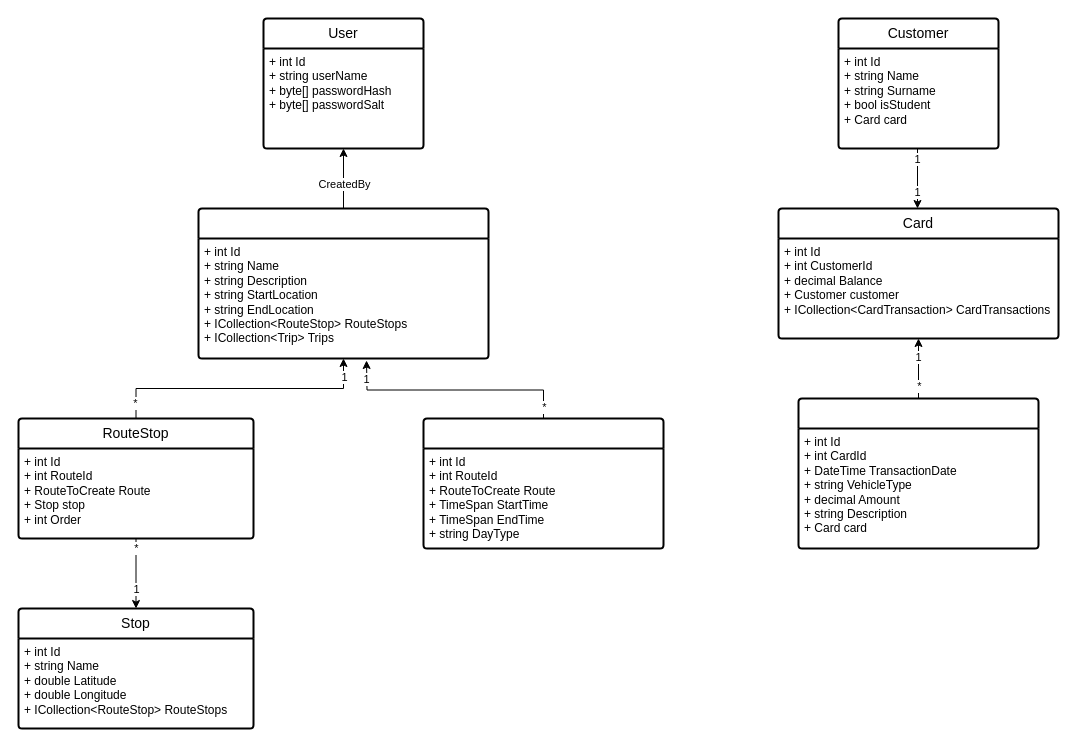
Some shapes in this 1076 by 748 pixel diagram are drawn without their labels. Each missing label, with the box of its shape:
CardTransaction: (797, 397, 1039, 549)
RouteToCreate: (197, 207, 489, 359)
Trip: (422, 417, 664, 549)
